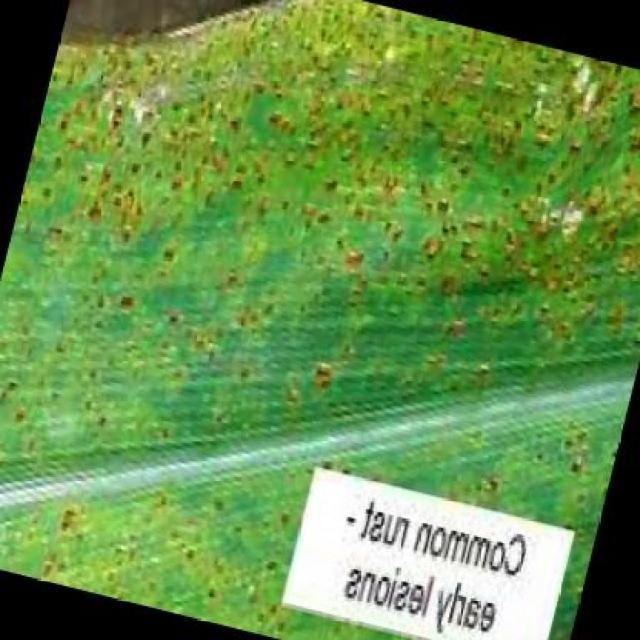Corn_Rust: (65, 48, 572, 386)
